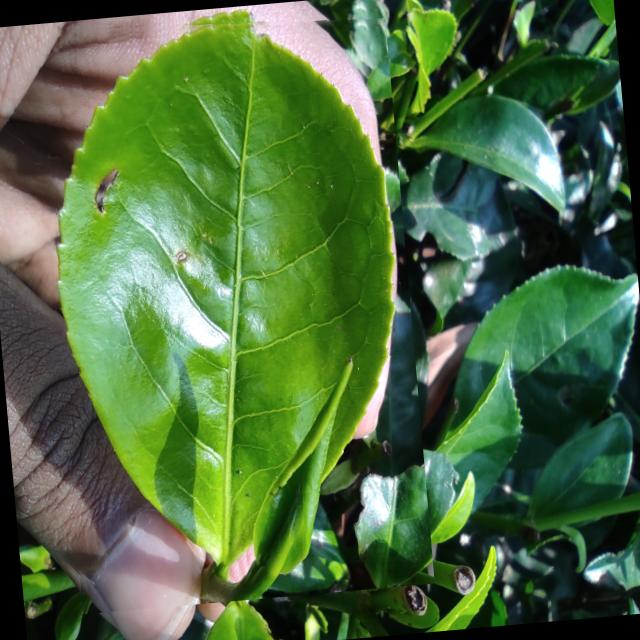Category C(4-7 days): (27, 0, 434, 614)
